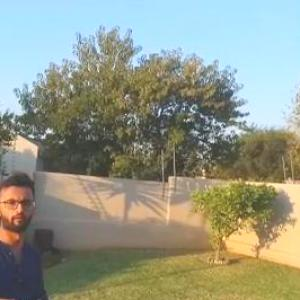follow: (0, 170, 58, 299)
